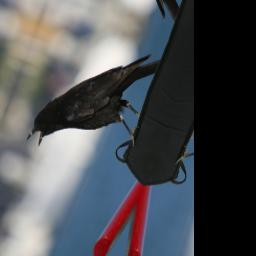Crow: (23, 19, 170, 183)
